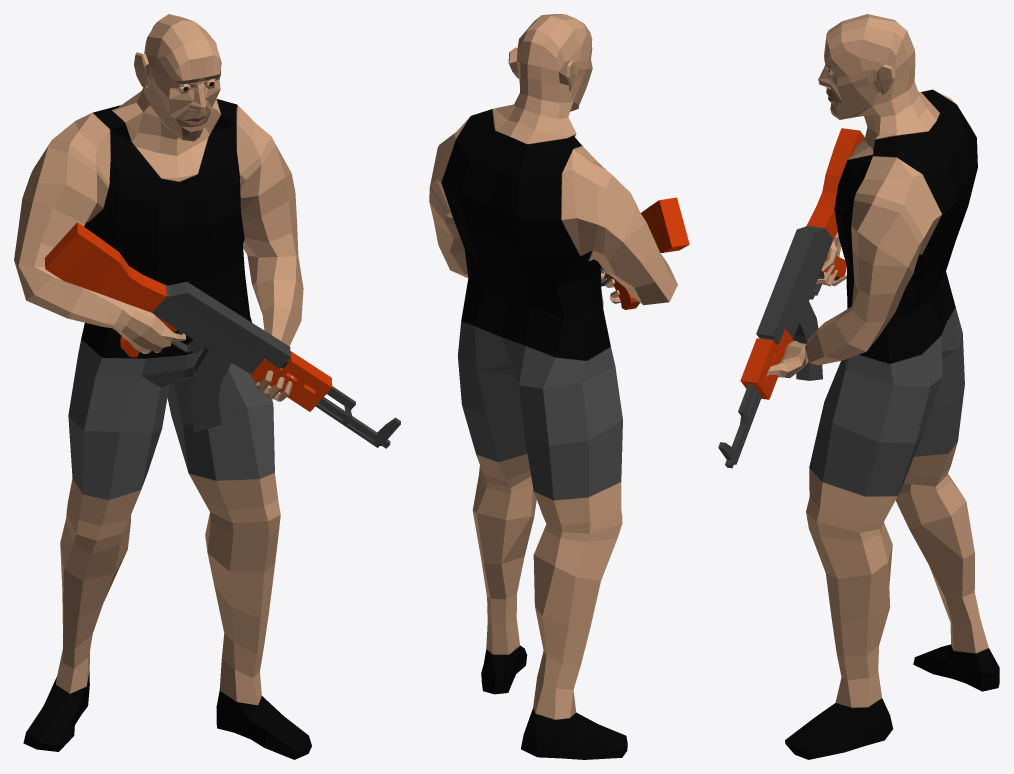
Rendered from PlayerIdle(93).obj.
3 renders of one model, left to right at view 1: azimuth 30°, elevation 25°; view 2: azimuth 150°, elevation 25°; view 3: azimuth 270°, elevation 25°, orthographic. The views are drawn at different scales.
Visible parts, largest first — view 1: Plane002, Object001; view 2: Plane002, Object001; view 3: Plane002, Object001.
Boxes of the visible parts, box(x1,y1,x2,y2) form: Plane002: box(14, 14, 311, 759); Object001: box(44, 222, 400, 448); Plane002: box(429, 14, 677, 759); Object001: box(600, 197, 689, 309); Plane002: box(766, 14, 999, 759); Object001: box(718, 128, 864, 468).
Size of the model in its own units: 745 by 1803 by 660.
